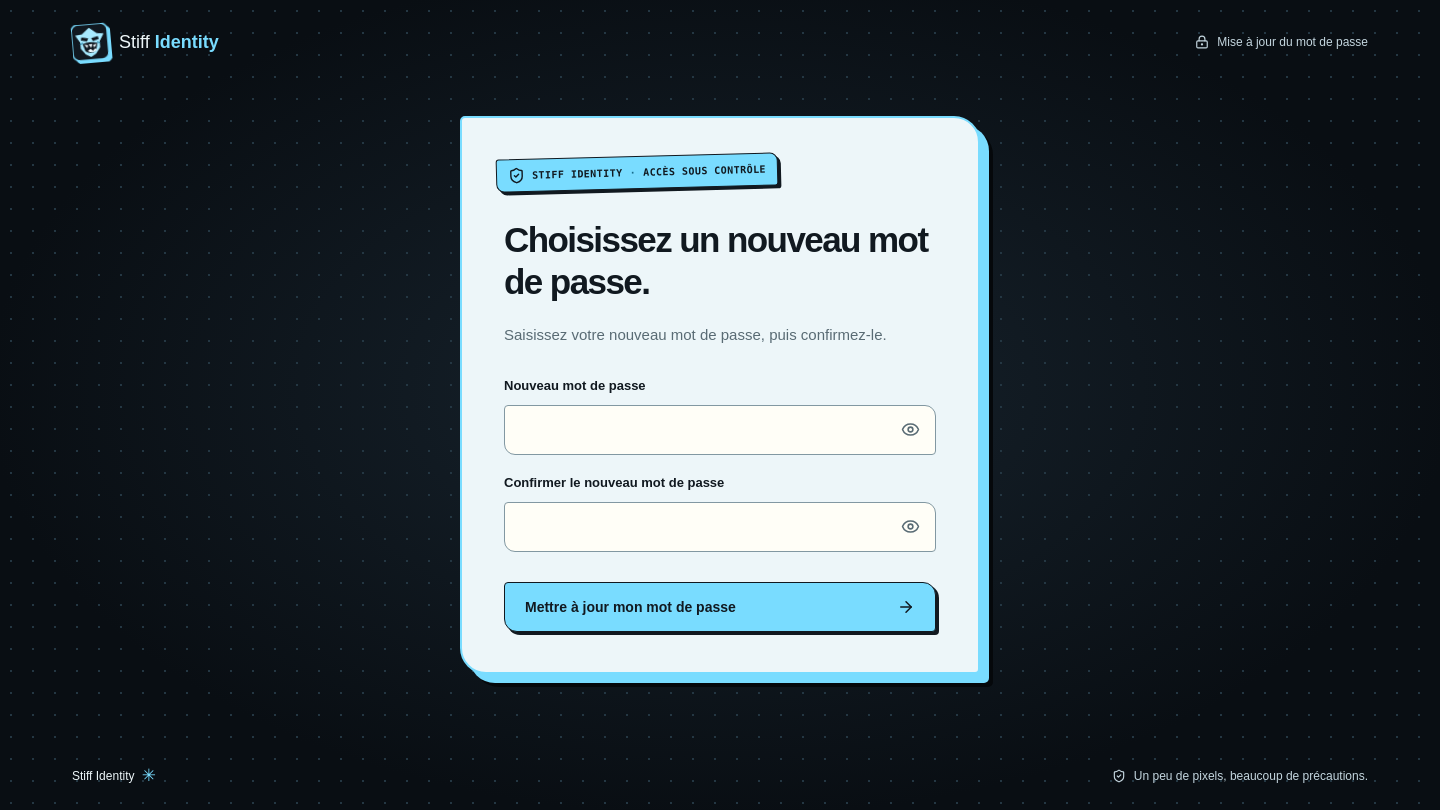
page de mise à jour du mot de passe › refuse des confirmations différentes sans appeler Supabase
Type "new-password" into the password field with id "new-password".
click(720, 430); type("new-password")  # box [504, 405, 936, 455]
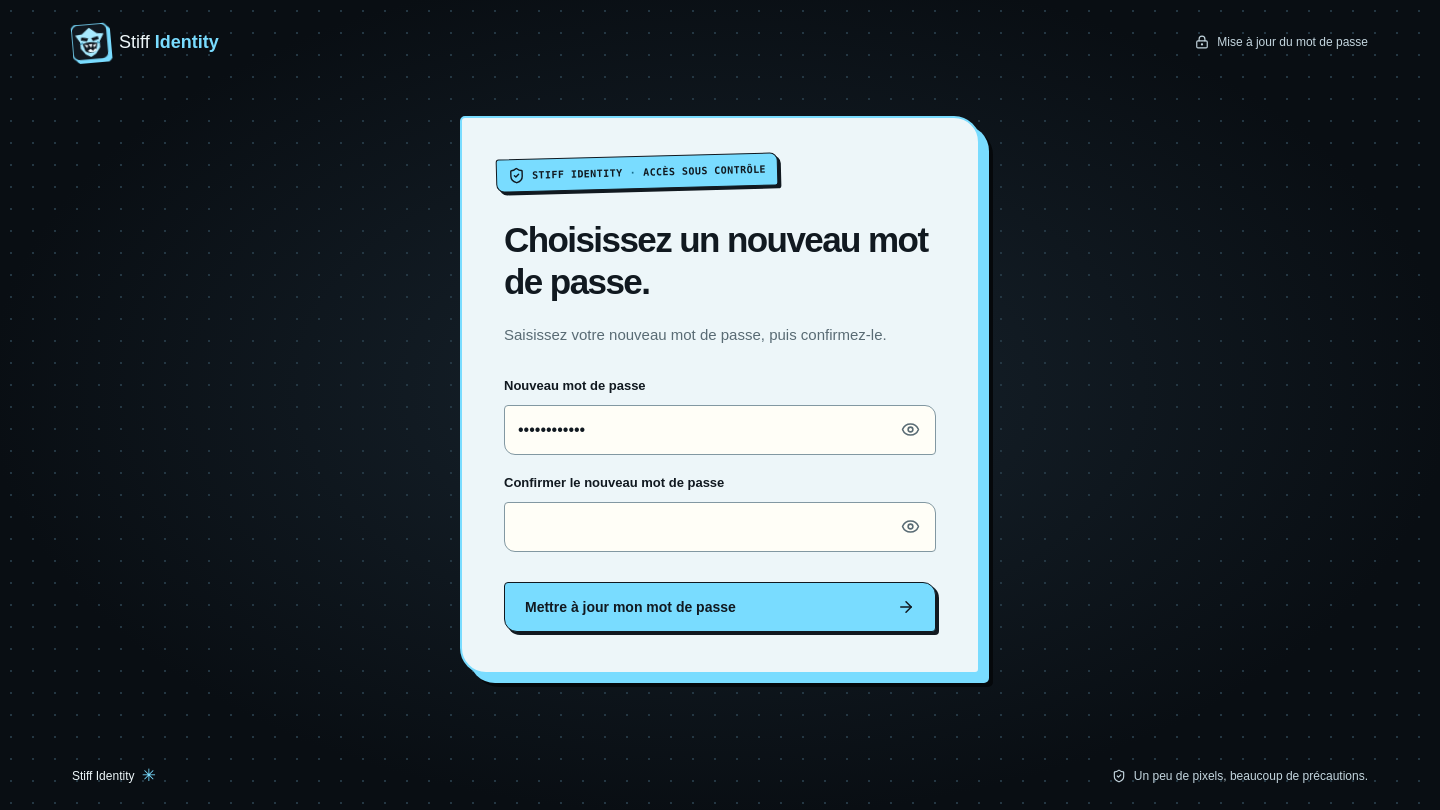
Type "other-password" into the password field with id "confirm-password".
click(720, 527); type("other-password")  # box [504, 502, 936, 552]
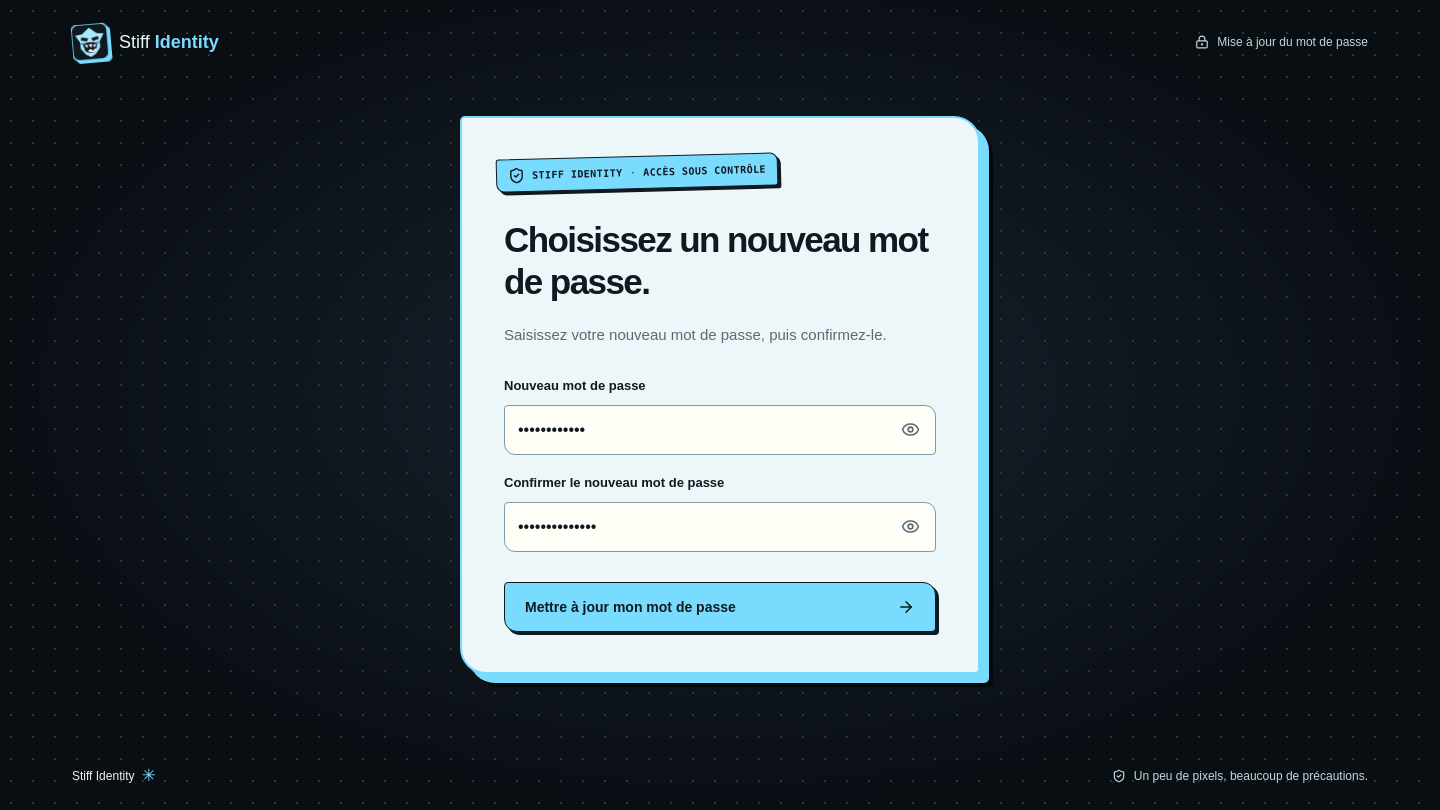
Submit the form, box [504, 378, 936, 632]
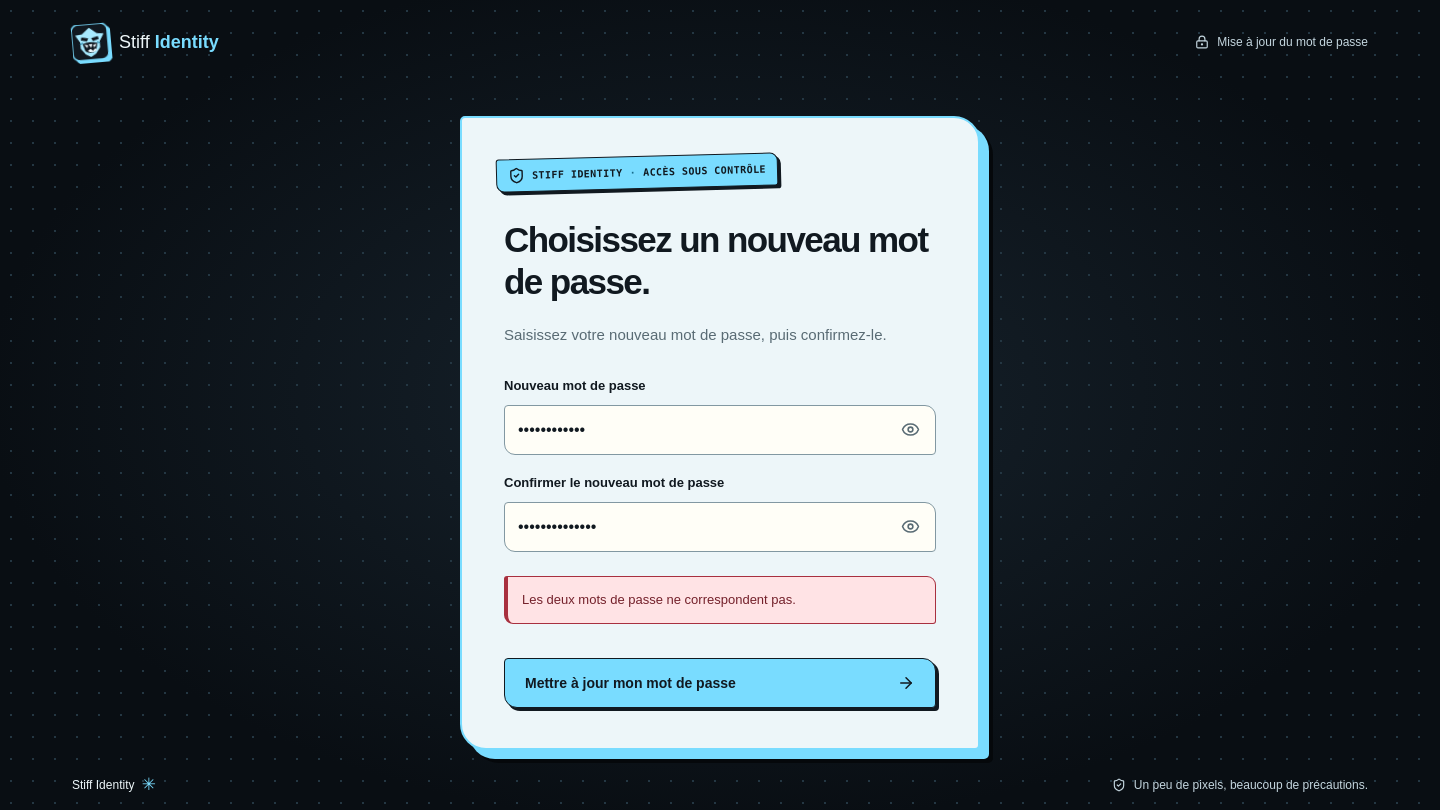
Now the message "Les deux mots de passe ne correspondent pas." is shown, box [504, 576, 936, 624]
